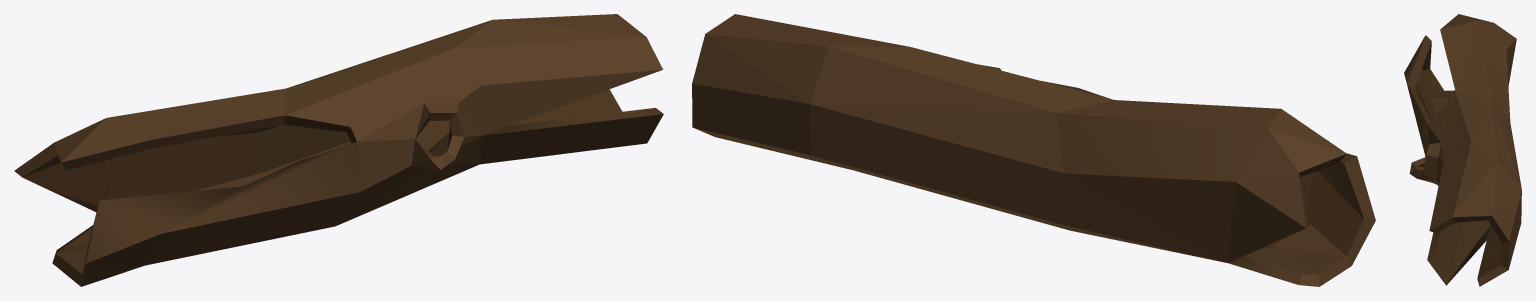
The model's file is WiseBark.fbx.
3 views of the same model, side by side, from view 1: azimuth 30°, elevation 25°; view 2: azimuth 150°, elevation 25°; view 3: azimuth 270°, elevation 25° (orthographic). The views are drawn at different scales.
Visible parts, largest first — view 1: log00.001; view 2: log00.001; view 3: log00.001.
Part boxes in pixels (bbox=[...]): log00.001: bbox=[14, 14, 663, 286]; log00.001: bbox=[692, 14, 1375, 286]; log00.001: bbox=[1404, 14, 1521, 286].
Size of the model in its own units: 99.26 by 22.83 by 25.25.
